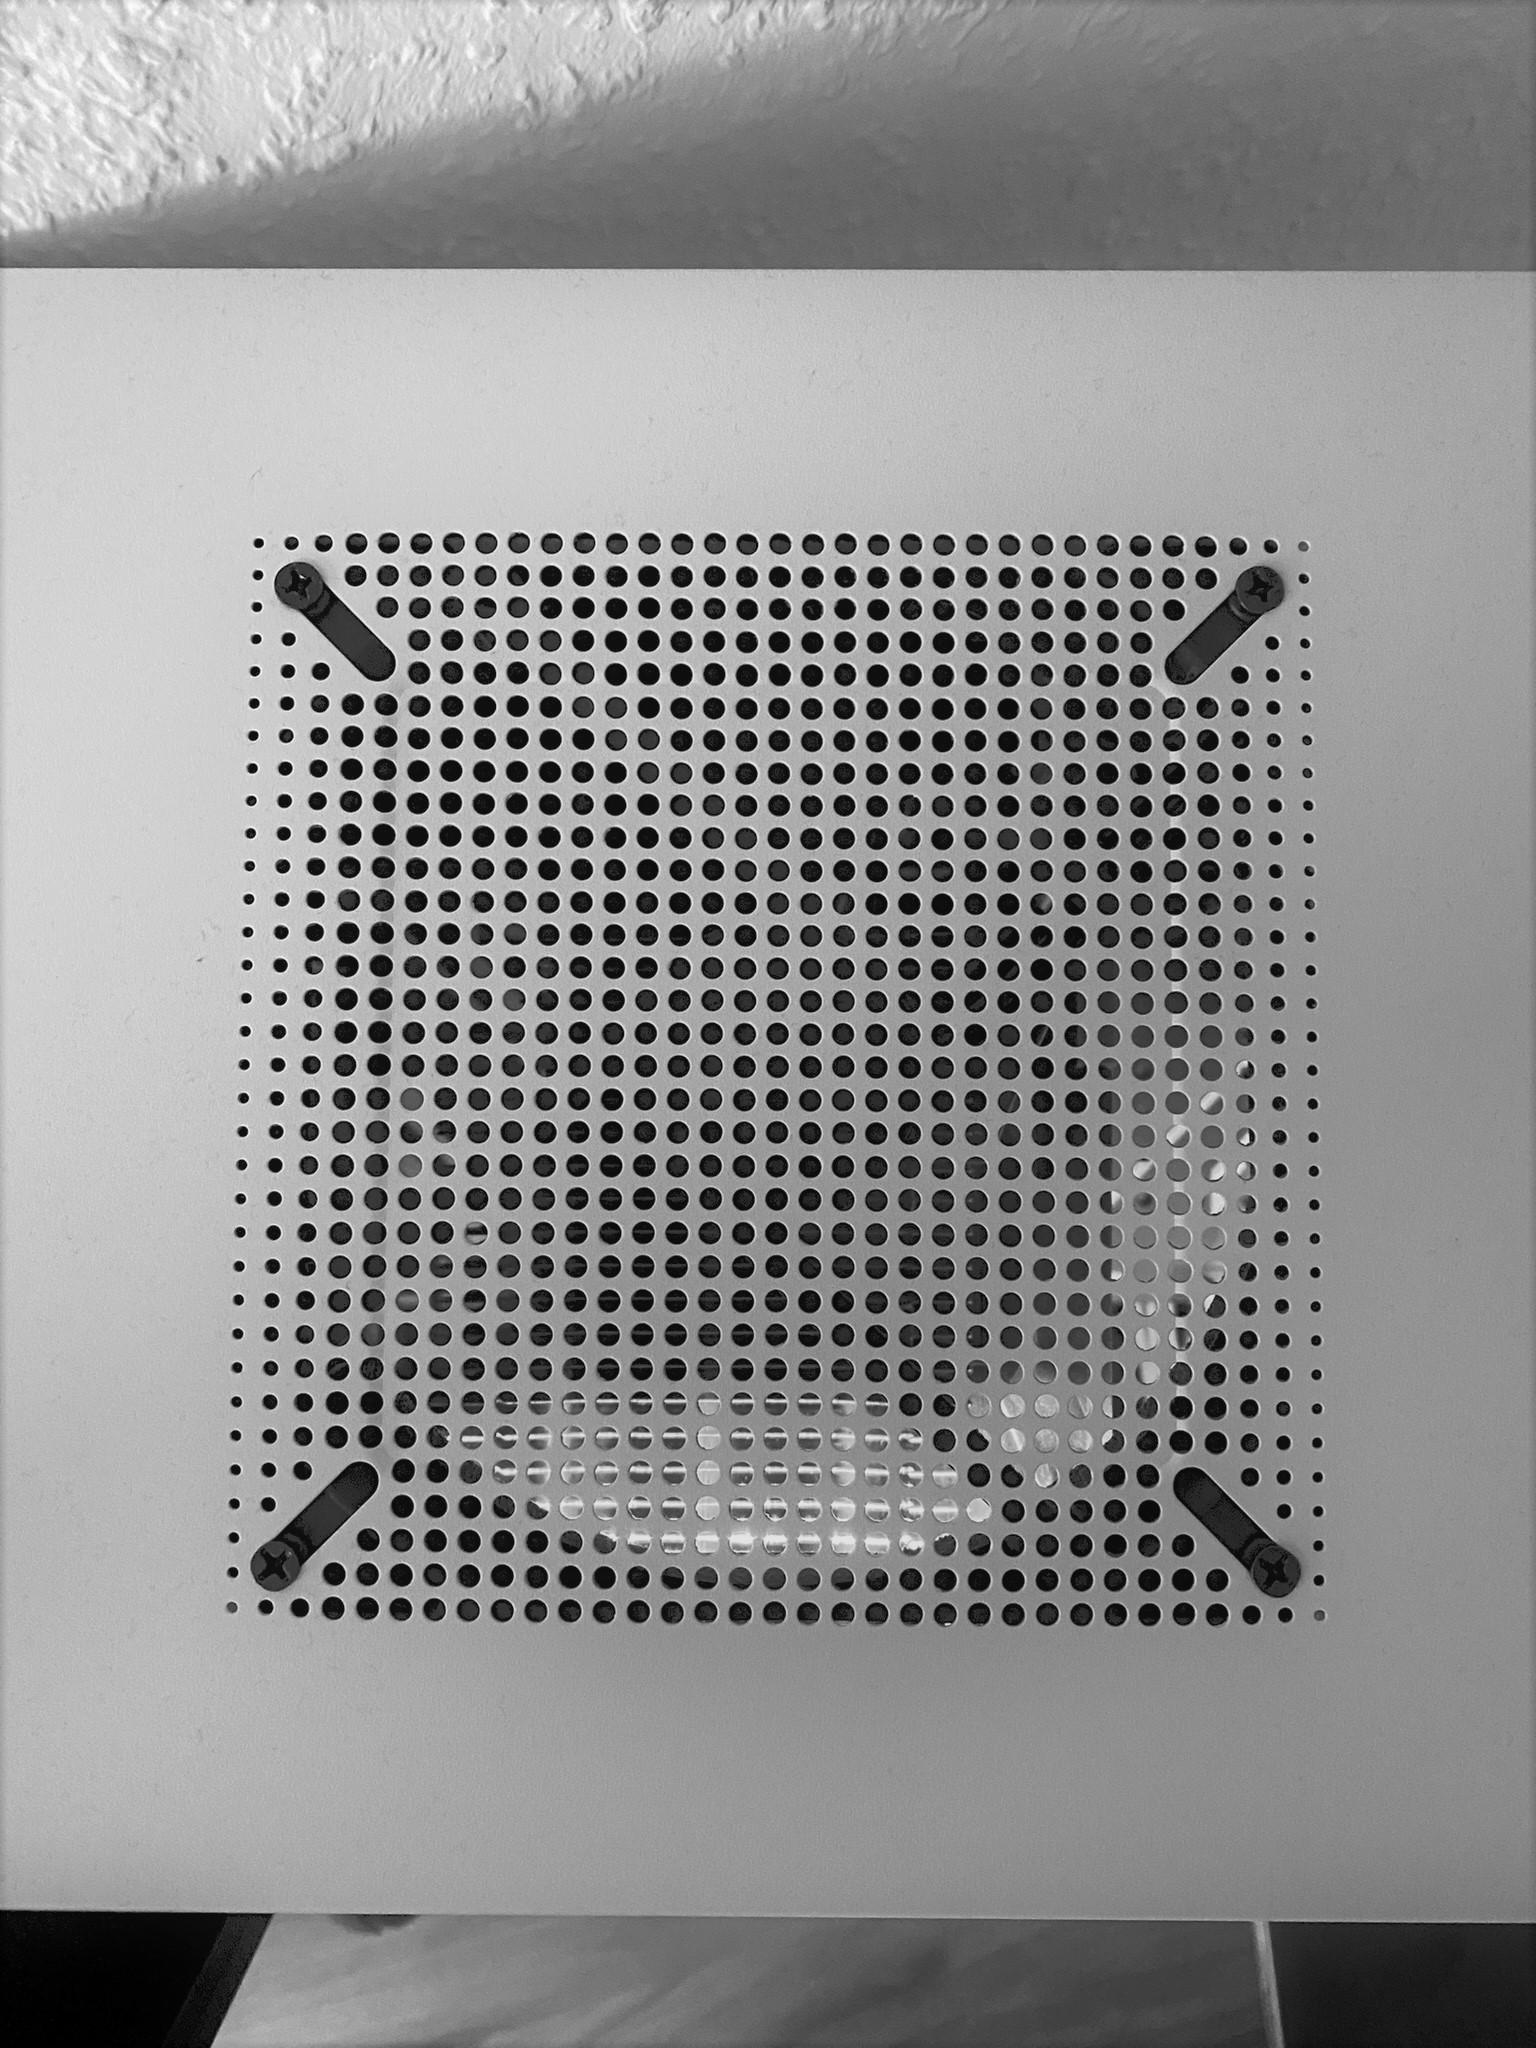PH: (1249, 1542, 1304, 1598), (1229, 564, 1288, 618), (273, 556, 326, 613), (245, 1538, 302, 1592)
